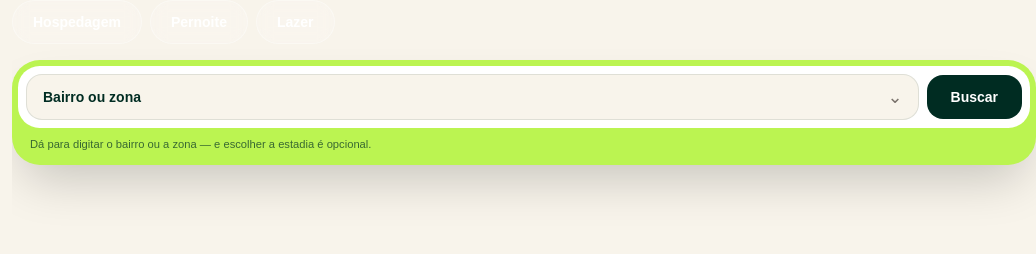
digitar encontra a opção sem depender de acento
Type "jacana" into the dropdown labelled "Bairro ou zona" at point(472, 97), box top-left (26, 74), bottom-right (918, 120)
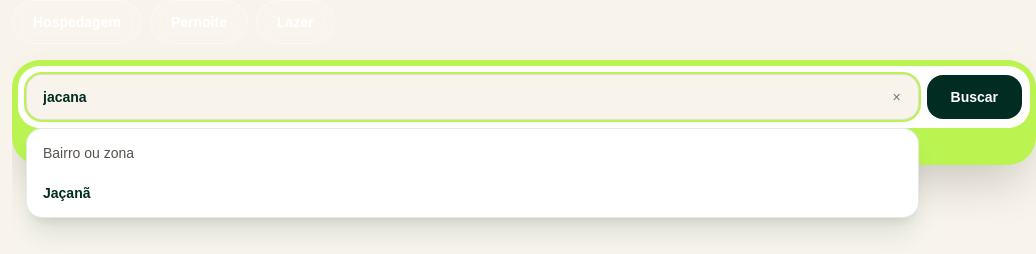
Expected: the option "Jaçanã" is shown, top-left (31, 173), bottom-right (914, 213)
